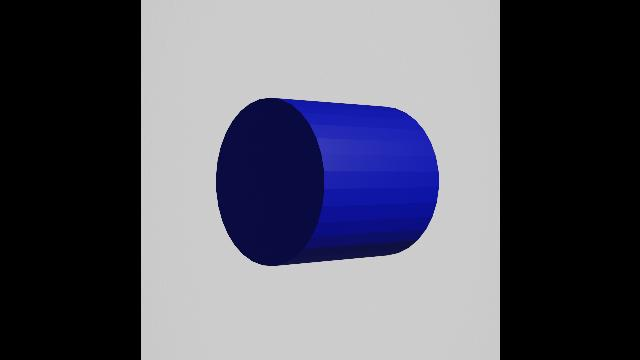Cylinder: (206, 94, 442, 268)
